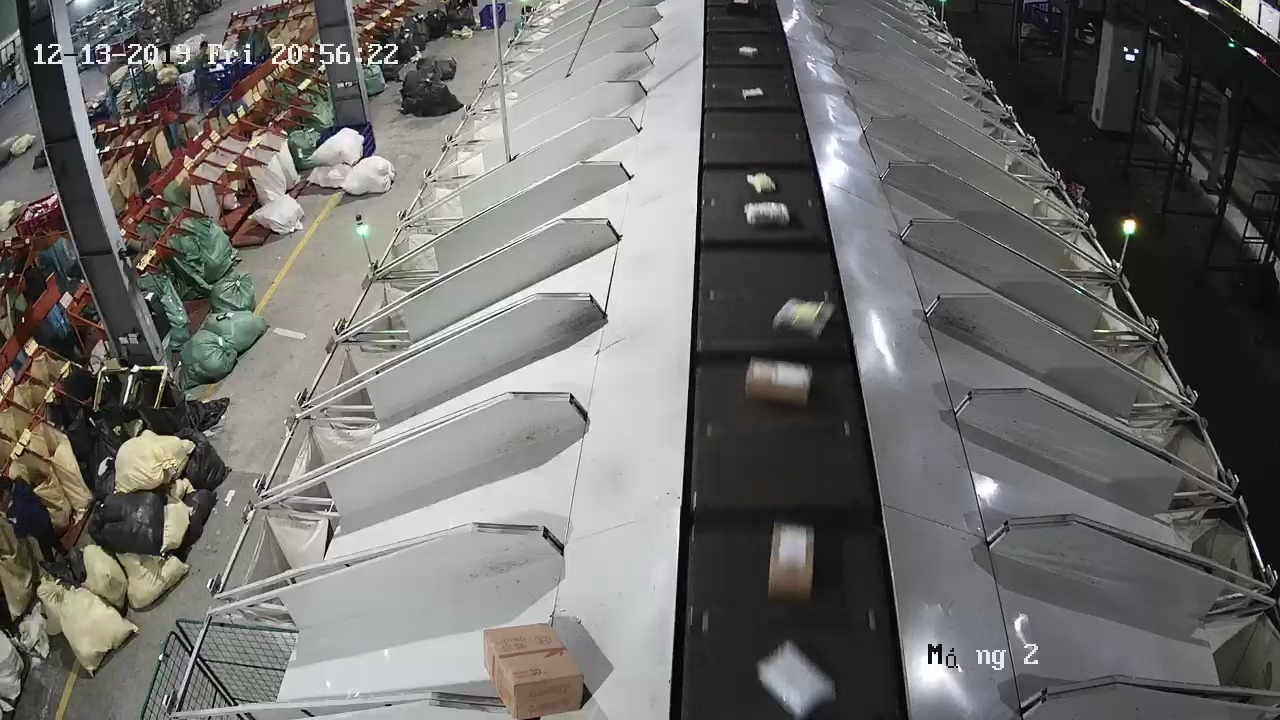parcel: (772, 296, 836, 341)
